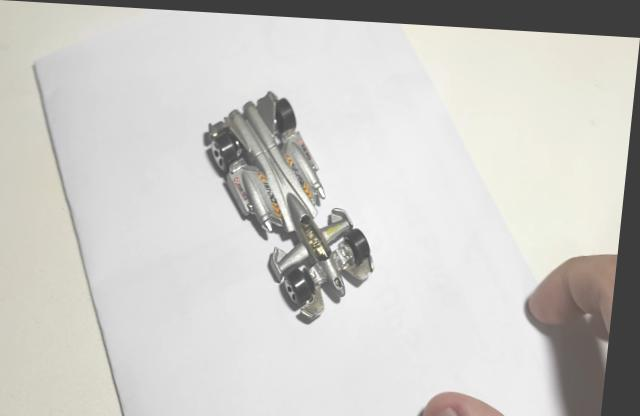05_DC121: (204, 90, 379, 322)
